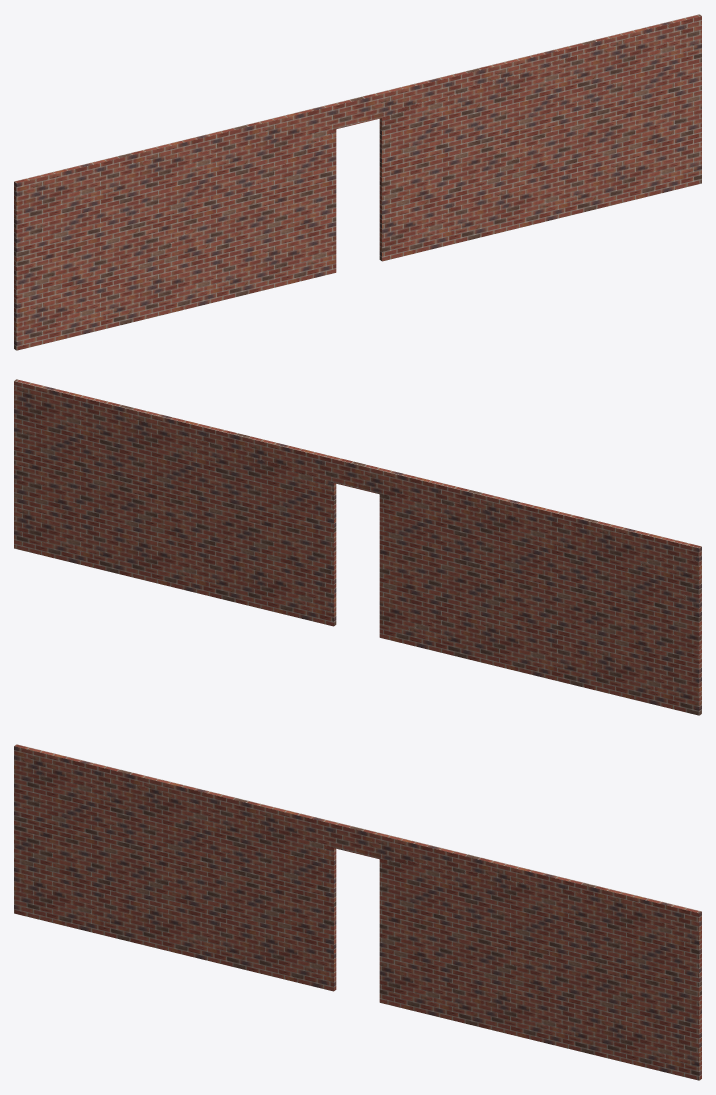
File: BrickHouse.DoorWall.obj
The picture shows the model from 3 angles, top to bottom: view 1: azimuth 30°, elevation 25°; view 2: azimuth 150°, elevation 25°; view 3: azimuth 330°, elevation 25°; orthographic projection.
Parts seen in each view (by area): view 1: Mesh1 Difference Model; view 2: Mesh1 Difference Model; view 3: Mesh1 Difference Model.
Part boxes in pixels (x1,y1,x2,y2): Mesh1 Difference Model: (14,14,701,350); Mesh1 Difference Model: (14,379,701,715); Mesh1 Difference Model: (14,744,701,1080).
Bounding box in the file's own units: 15 × 3.5 × 0.1.
Materials: 1 (1 with a texture image).
